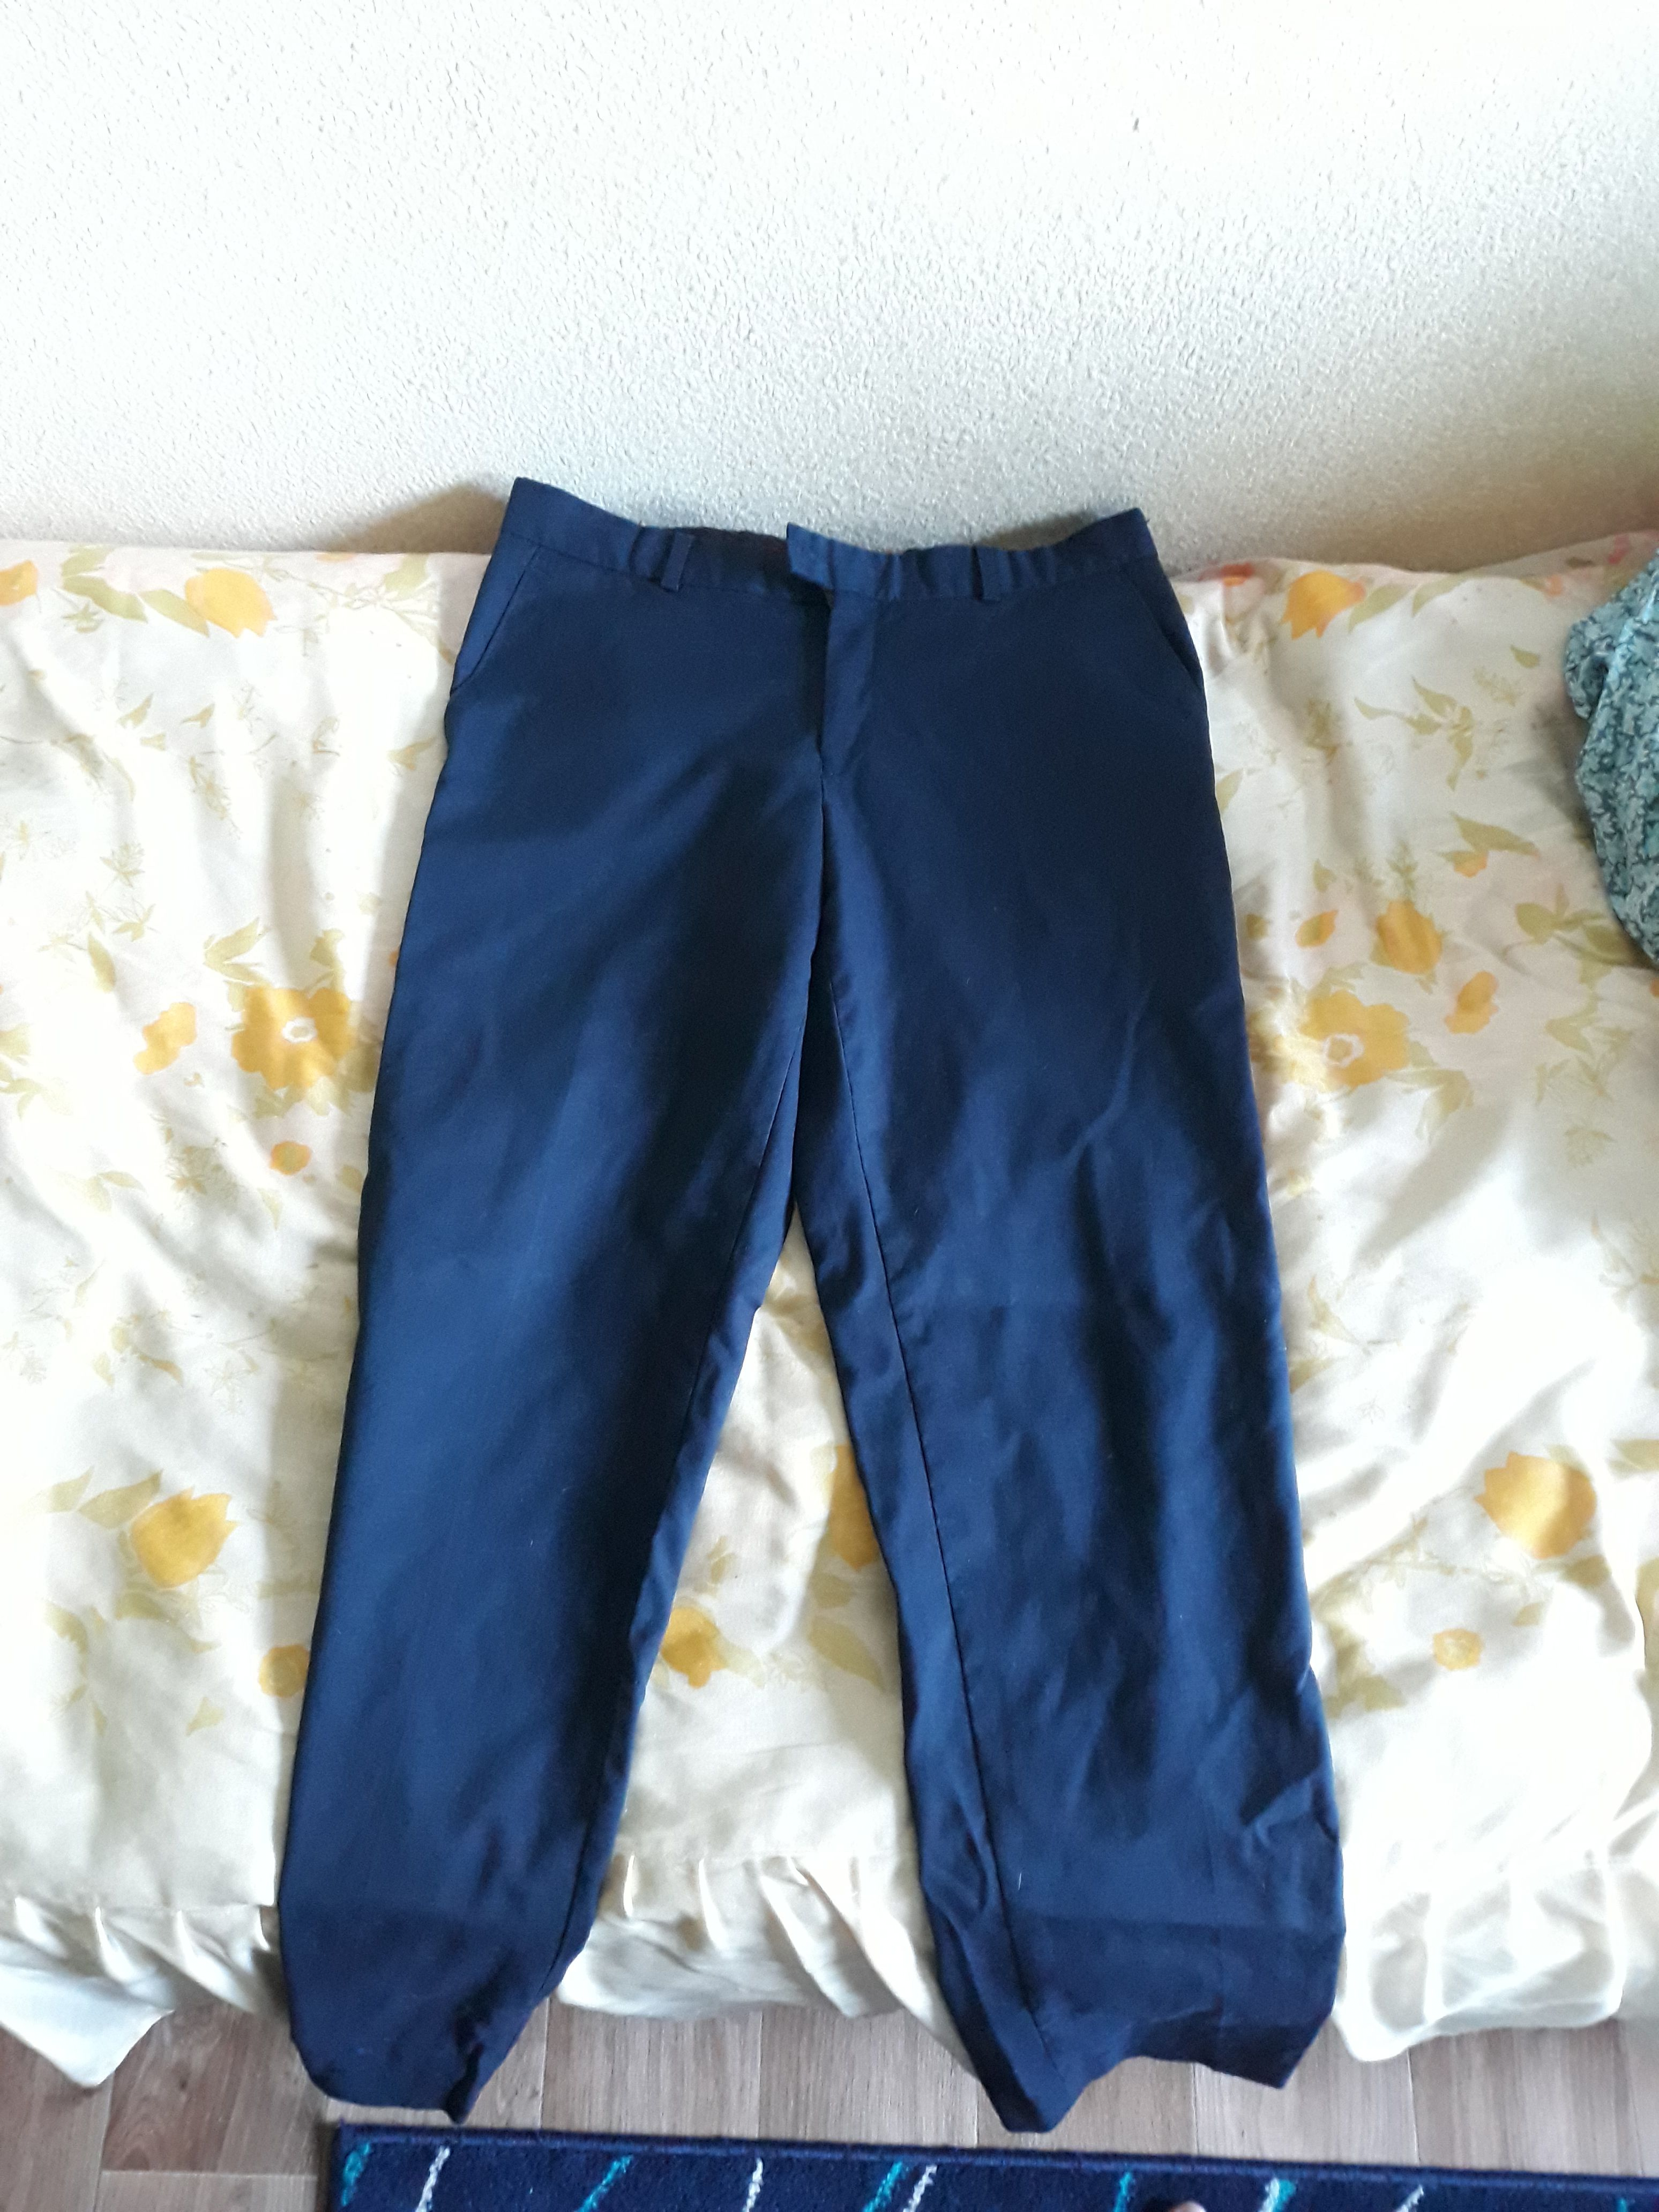clothes: (251, 463, 1364, 2111)
